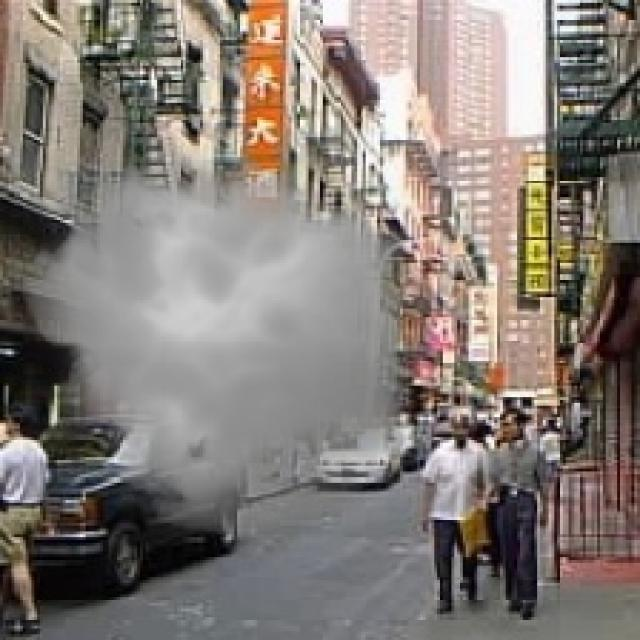smoke: (9, 140, 428, 549)
